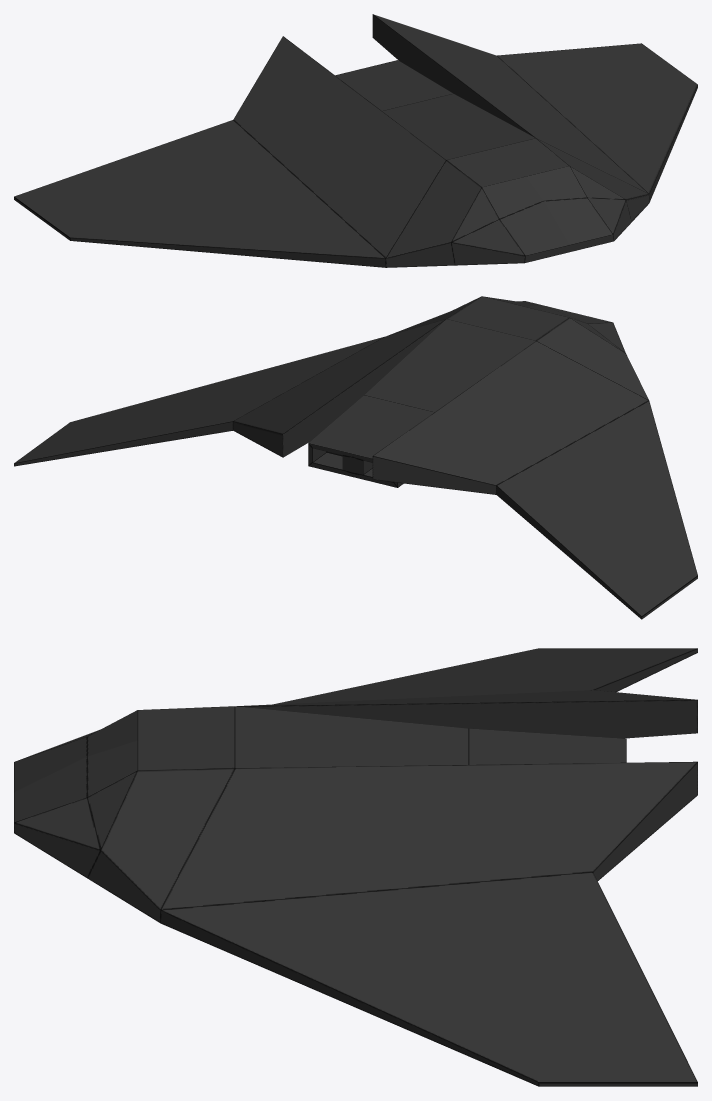
The model's file is spaceship.gltf.
3 renders of one model, top to bottom at view 1: azimuth 30°, elevation 25°; view 2: azimuth 150°, elevation 25°; view 3: azimuth 270°, elevation 25°, orthographic. The views are drawn at different scales.
Visible parts, largest first — view 1: Cube; view 2: Cube; view 3: Cube.
Part boxes in pixels (<box>): Cube: <box>14,14,697,267</box>; Cube: <box>14,296,697,619</box>; Cube: <box>14,648,697,1086</box>.
Bounding box in the file's own units: 14.01 × 2.09 × 9.33.
1 material, 1 textured.
